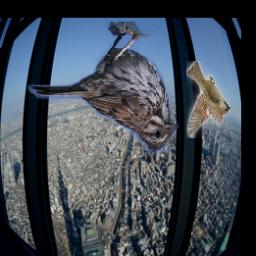Sparrow: (27, 22, 179, 155), (187, 62, 231, 139)
